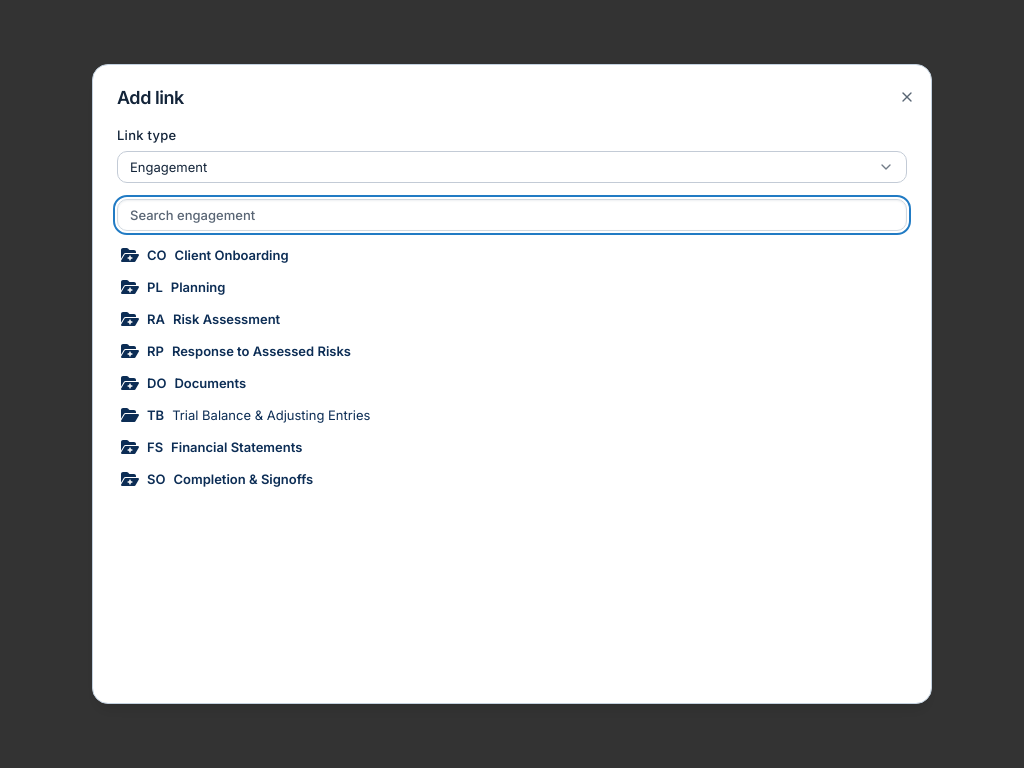
Test: PdfAddLinkDialog consolidated link picker › switches across Web URL, Document, and Engagement types and remembers the last-used type in the session
Earlier steps of the test are not shown.
Later steps or results of the test are not shown.
Expected: the field with placeholder "Search engagement" is shown, [117,199,907,231]
Expected: the button "DO Documents" is shown, [117,367,903,399]
Click the button "CO Client Onboarding" at (232, 255), box [117,239,903,271]
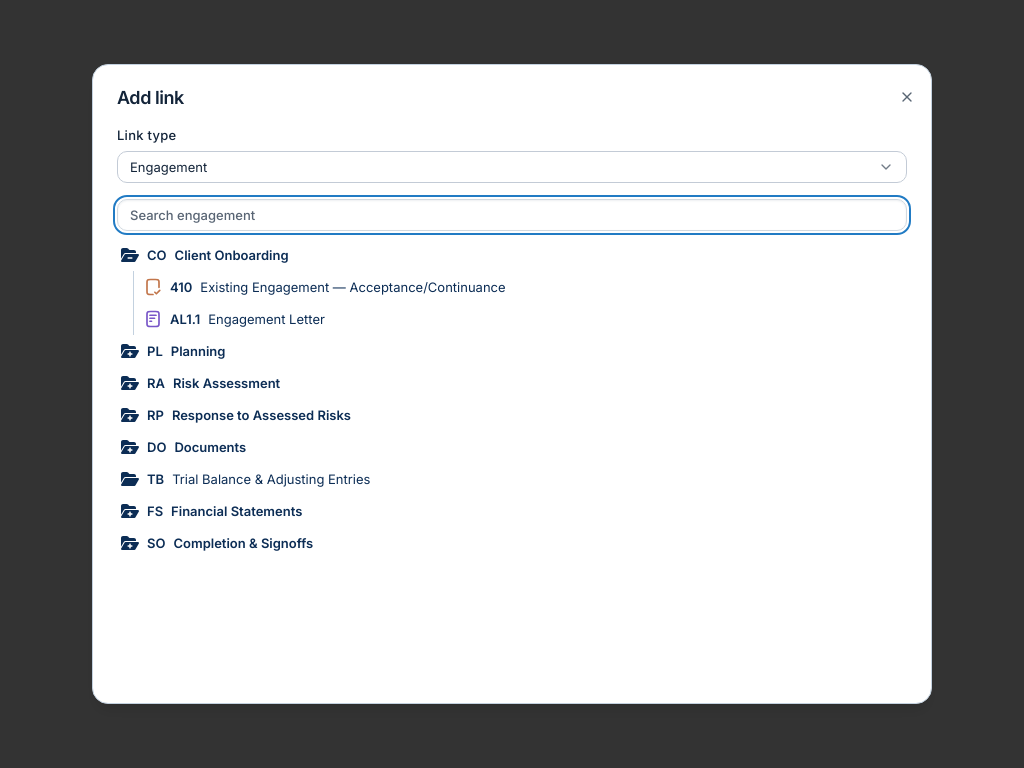
Expected: the button "AL1.1 Engagement Letter" is shown, [140,303,903,335]
